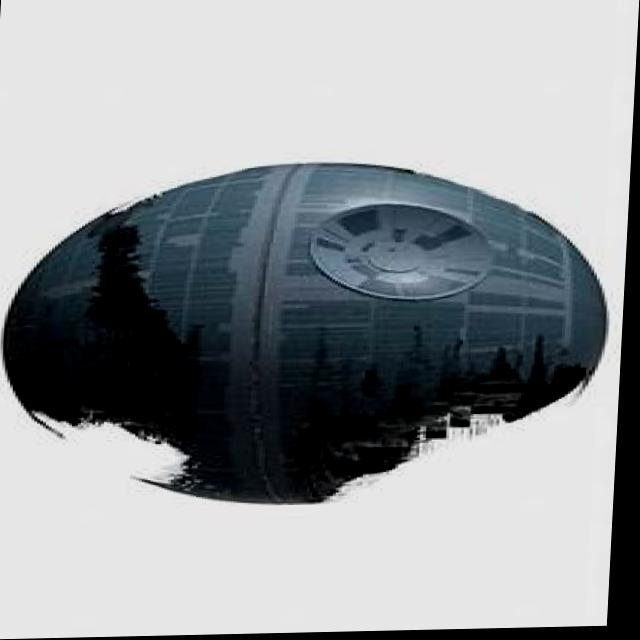deathStar: (0, 163, 621, 515)
